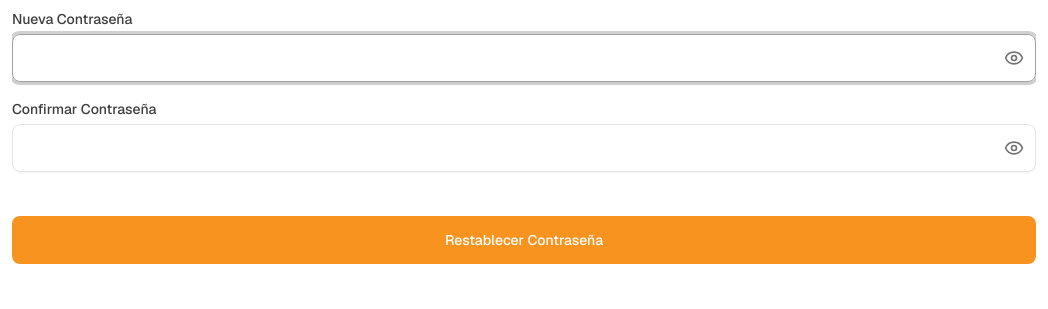
PasswordConfirmForm › Form Validation › shows error when password is too short
Type "12345" into the password field labelled "Nueva Contraseña" at point(524, 58), box top-left (12, 34), bottom-right (1036, 82)
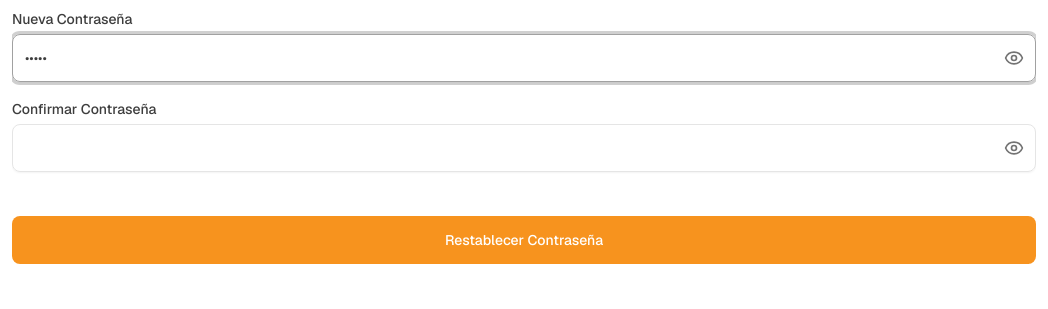
Type "12345" into the password field labelled "Confirmar Contraseña" at point(524, 148), box top-left (12, 124), bottom-right (1036, 172)
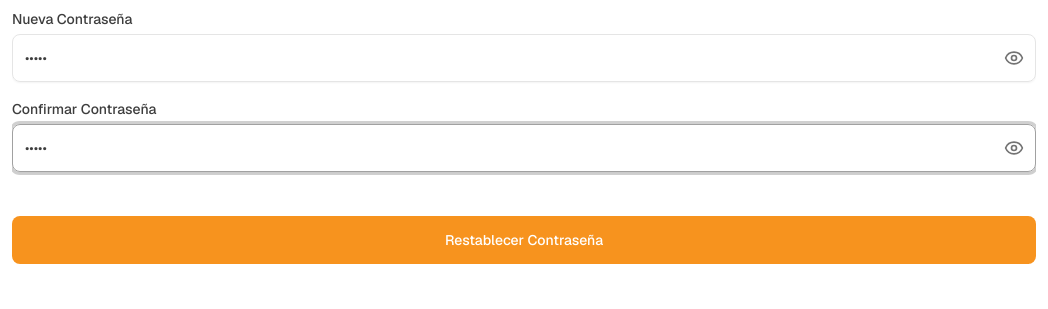
Click the button "Restablecer Contraseña" at point(524, 240), box top-left (12, 216), bottom-right (1036, 264)
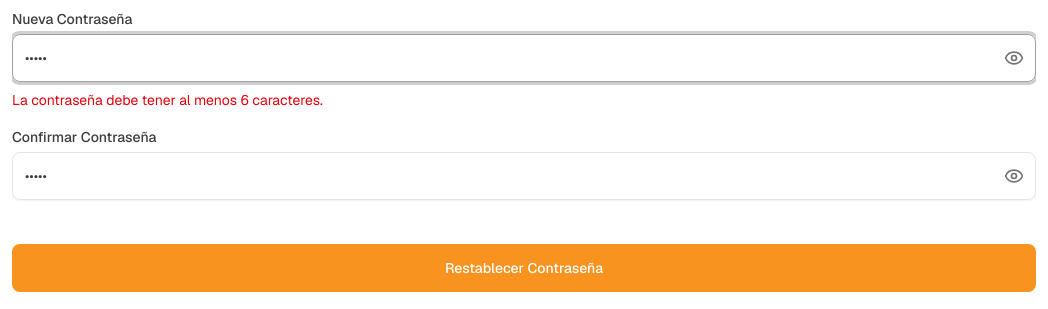
Expected: the text "La contraseña debe tener al menos 6 caracteres." is shown, top-left (12, 91), bottom-right (323, 109)
